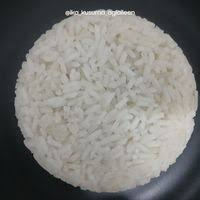Nasi putih: (14, 8, 200, 195)
